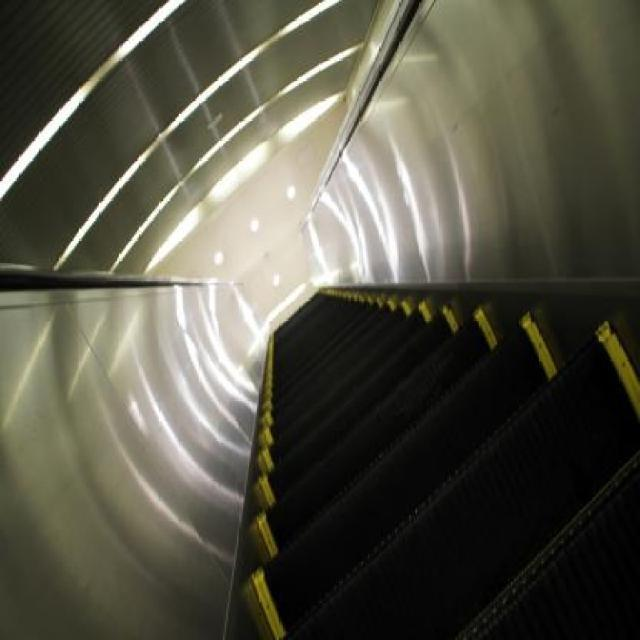stair: (228, 280, 640, 640)
